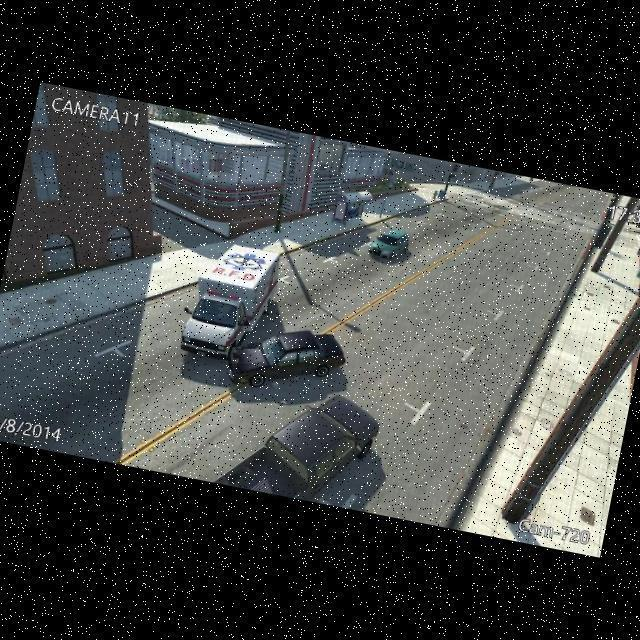accident: (169, 233, 367, 403)
